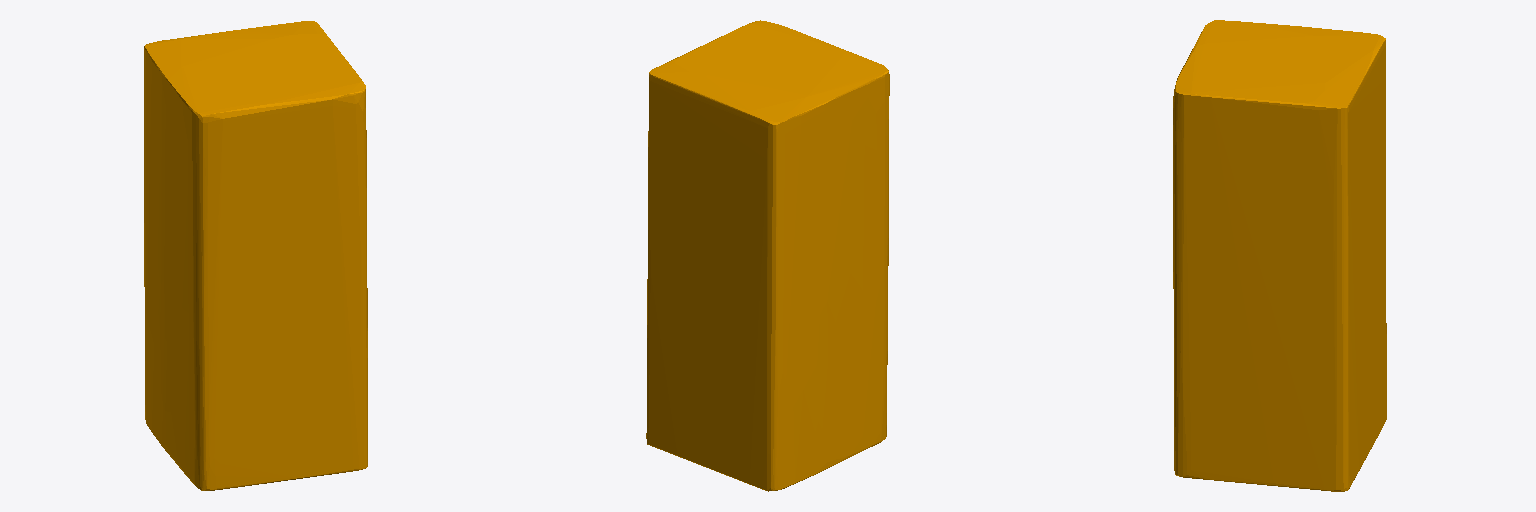
The robot description file, URDF, robot "036_wood_block":
<?xml version="1.0" encoding="UTF-8"?>
<robot name="036_wood_block">
	<link name="base">
		<collision>
			<geometry>
				<mesh filename="..\vhacd\036_wood_block_vhacd.obj" scale="1.0 1.0 1.0"/>
			</geometry>
			<origin xyz="0 0 0"/>
			<contact_coefficients mu="0.24" />
		</collision>
		<visual>
			<geometry>
				<mesh filename="..\vhacd\036_wood_block_vhacd.obj" scale="1.0 1.0 1.0"/>
			</geometry>
			<origin xyz="0 0 0"/>
		</visual>
		<inertial>
			<mass value="0"/>
			<inertia ixx="0.0" ixy="0.0" ixz="0.0" iyy="0.0" iyz="0.0" izz="0.0" />
			<origin xyz="0.023373051871545376 -0.010273626241854638 0.10276919239800719"/>
		</inertial>
	</link>
</robot>

--- Facts derived from the render (not from the file) ---
Views: 3 orthographic renders of the robot side by side, from view 1: azimuth 30°, elevation 25°; view 2: azimuth 150°, elevation 25°; view 3: azimuth 270°, elevation 25°.
Robot: 036_wood_block — 1 links, 0 joints (none); root link base; default pose: every joint at zero.
Links seen in each view (by area): view 1: base; view 2: base; view 3: base.
Boxes of the visible links, x1,y1,x2,y2 form: base: (144, 21, 367, 490); base: (646, 20, 889, 491); base: (1173, 20, 1386, 491).
Bounding box of the posed robot: 0.1048 × 0.1042 × 0.2066 m (x, y, z).
Meshes: 1 distinct files referenced, 1 mesh visuals loaded (1 OBJ).